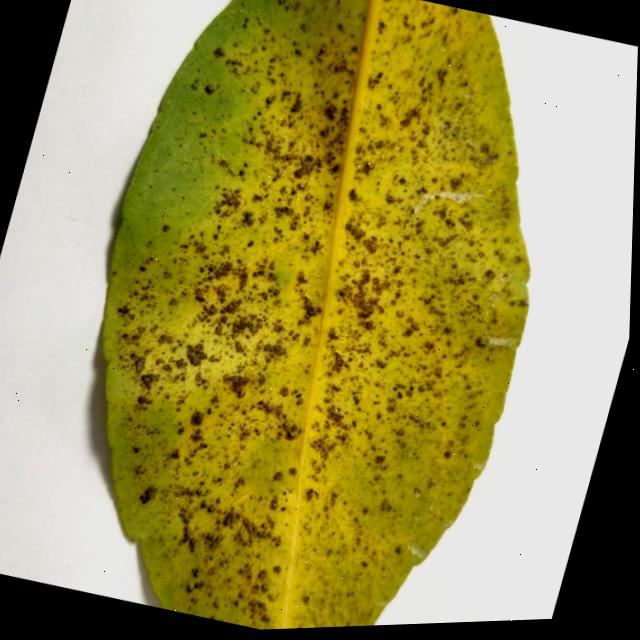melanose: (102, 0, 527, 630)
